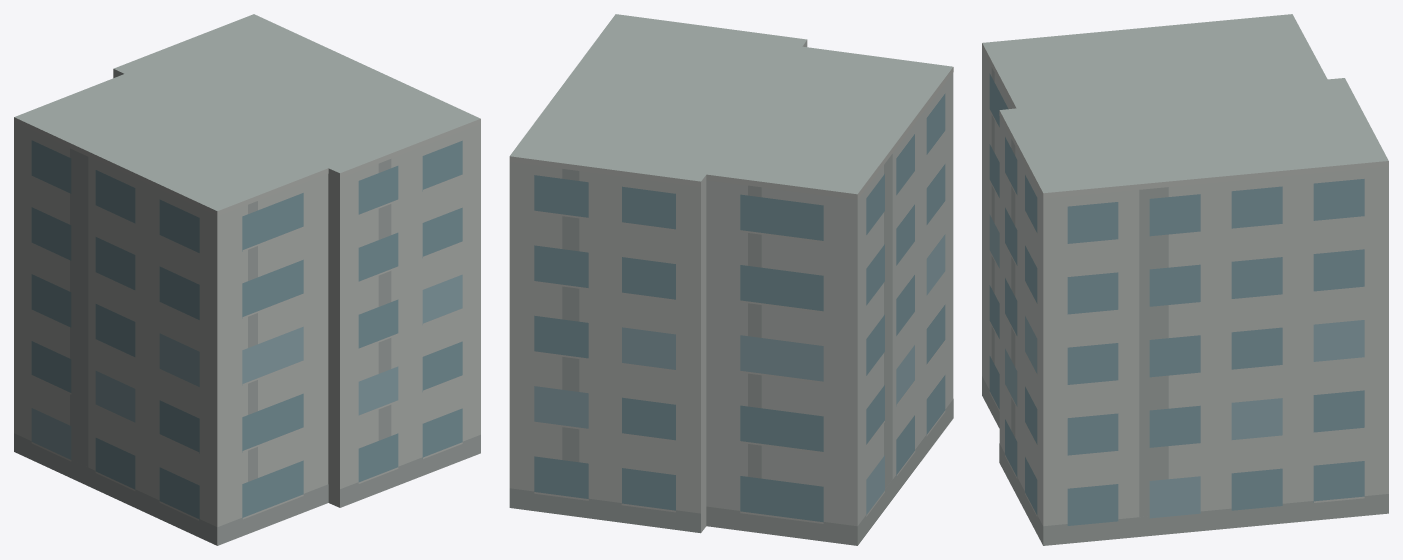
File: survey-upis-32801151.glb
The picture shows the model from 3 angles, left to right: view 1: azimuth 30°, elevation 25°; view 2: azimuth 150°, elevation 25°; view 3: azimuth 270°, elevation 25°; orthographic projection. The views are drawn at different scales.
Parts seen in each view (by area): view 1: survey-upis-32801151.tmp; view 2: survey-upis-32801151.tmp; view 3: survey-upis-32801151.tmp.
Boxes of the visible parts, <box> form: survey-upis-32801151.tmp: <box>14,14,480,545</box>; survey-upis-32801151.tmp: <box>509,14,953,545</box>; survey-upis-32801151.tmp: <box>982,14,1388,545</box>.
Bounding box in the file's own units: 16.85 × 15.45 × 16.16.
